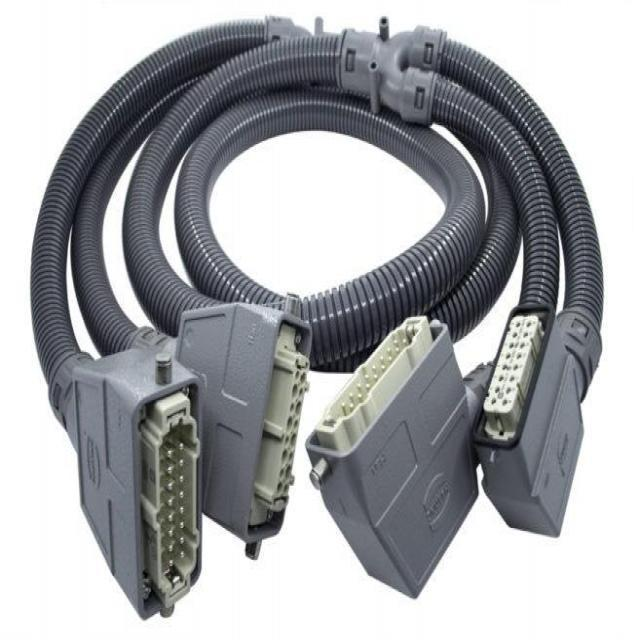connector: (263, 296, 542, 601), (57, 337, 235, 623), (460, 300, 605, 537), (171, 301, 310, 544)
